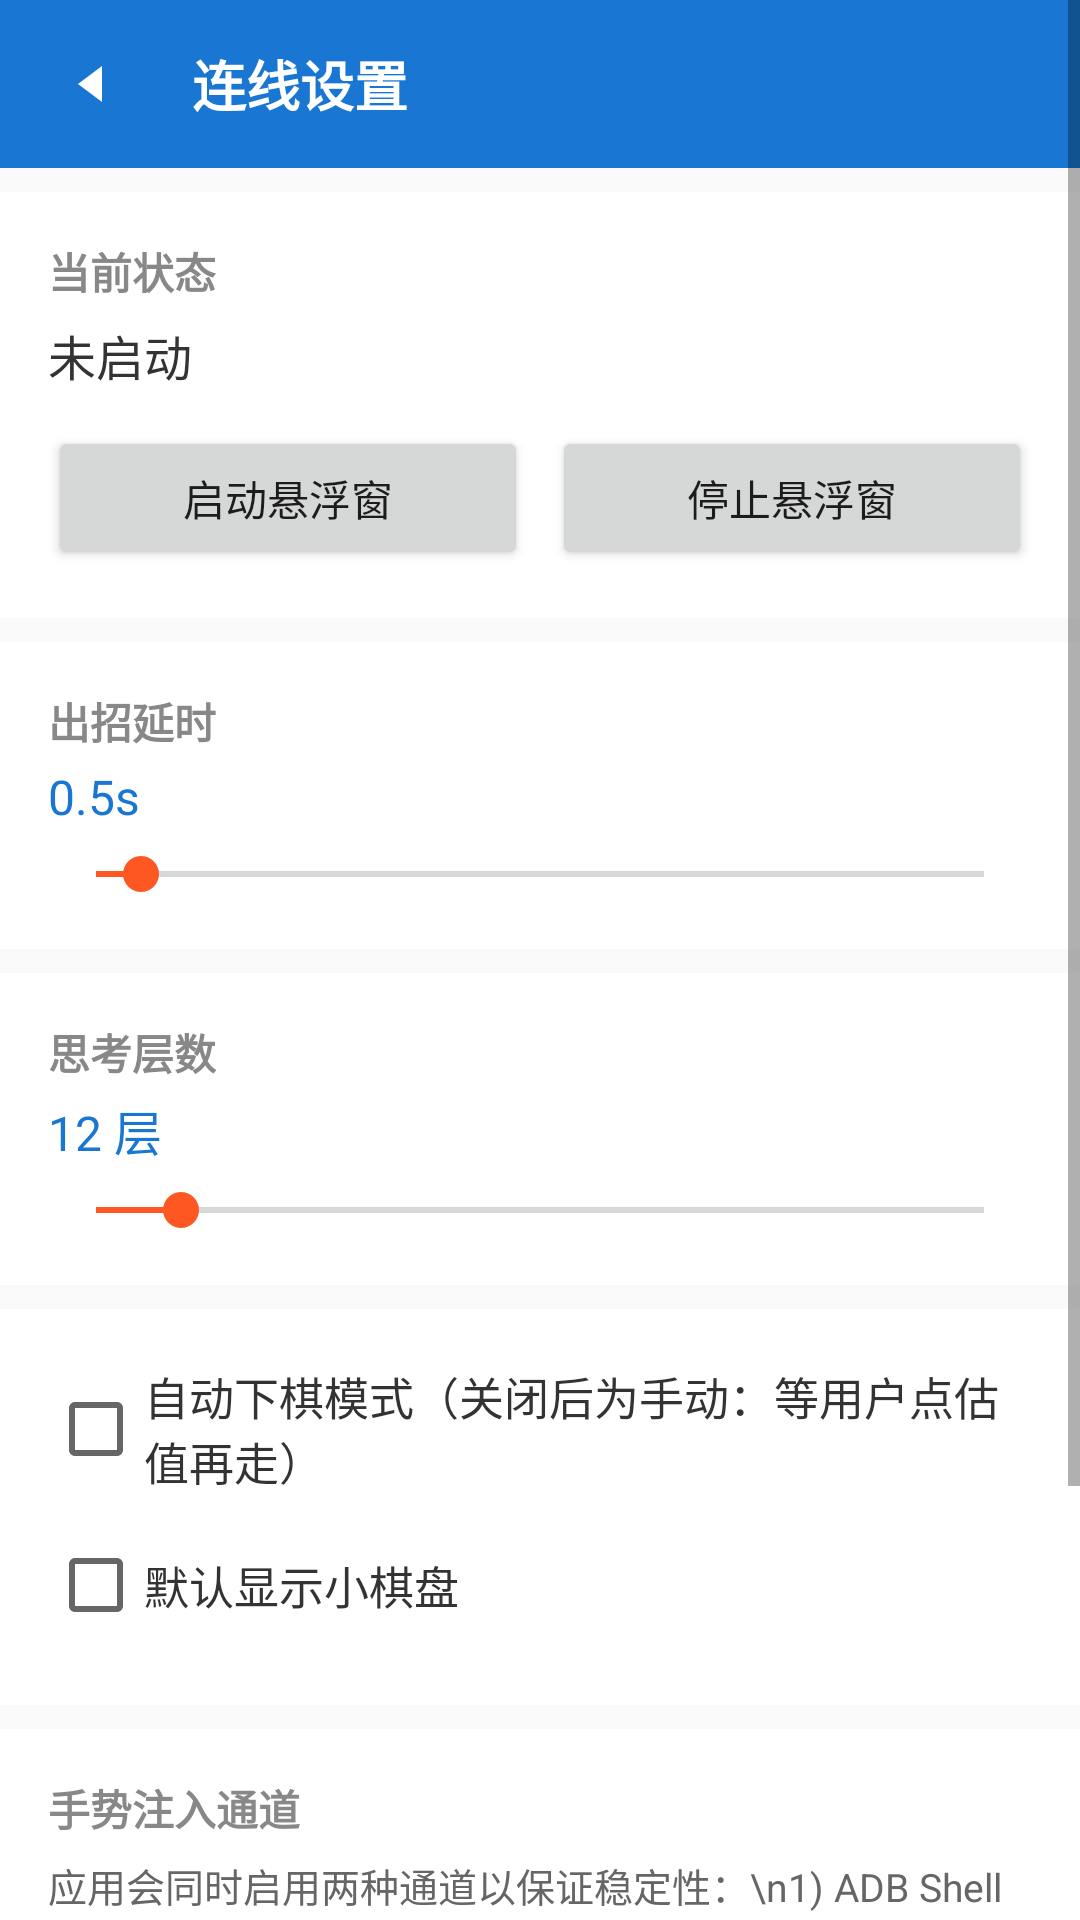

Locate icon controls on the screen. Image size 1080 × 1920, boxes as (x1, y1, x2, y2).
返回: (78, 66, 102, 102)
